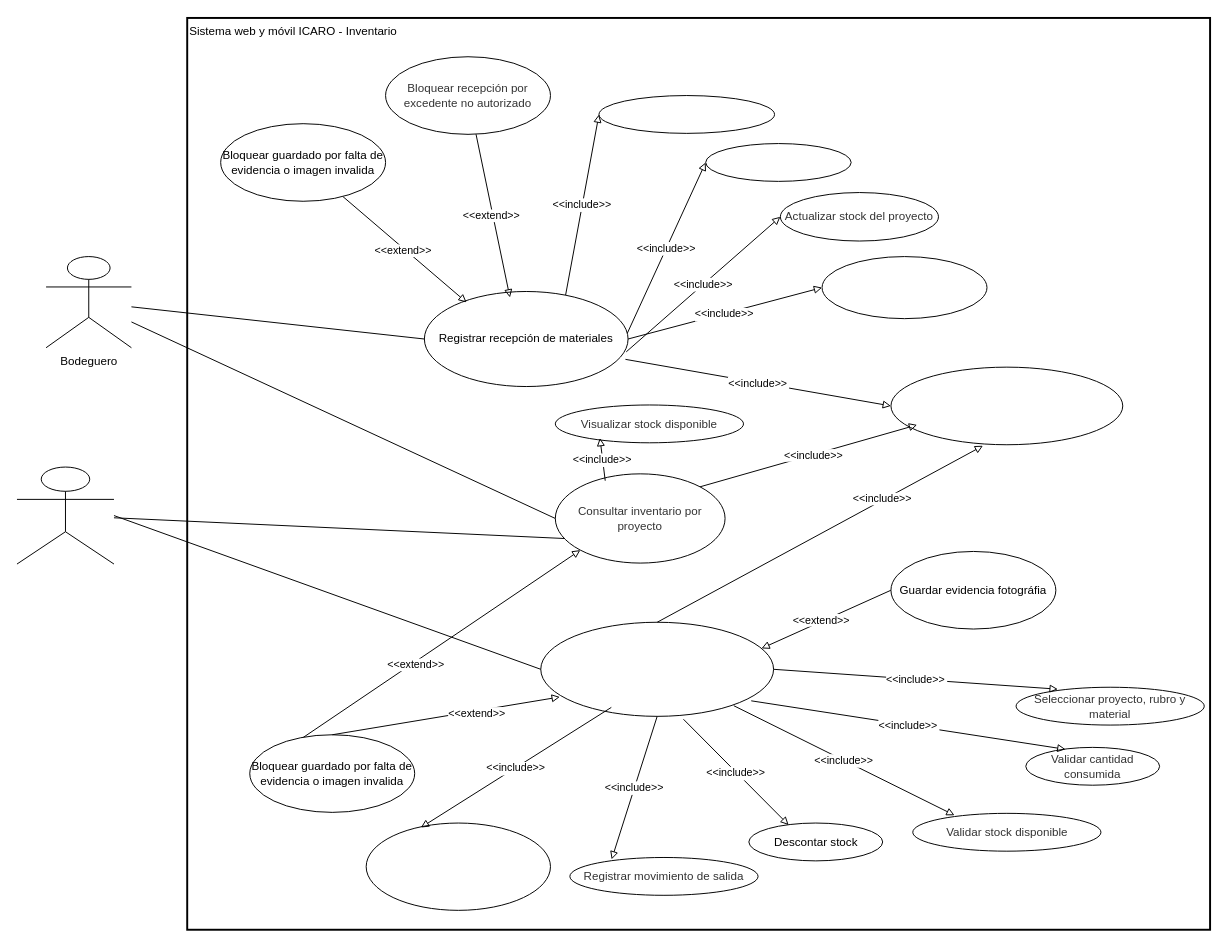
Image size: 1228x947. Some labels were removed from this diagram. The box of each missing label's shape, as (x1, y1, x2, y2) in pixels:
Gestionar inventario y consumos de materiales: (890, 366, 1123, 445)
Guardar consumo como enviado o pendiente de sincronización: (365, 822, 550, 910)
Registrar consumo de materiales: (540, 621, 774, 716)
Registrar movimiento de ingreso: (821, 256, 987, 319)
Residente: (16, 466, 114, 564)
Validar cantidad recibida: (705, 143, 851, 181)
Validar requerimiento: (598, 95, 775, 133)
